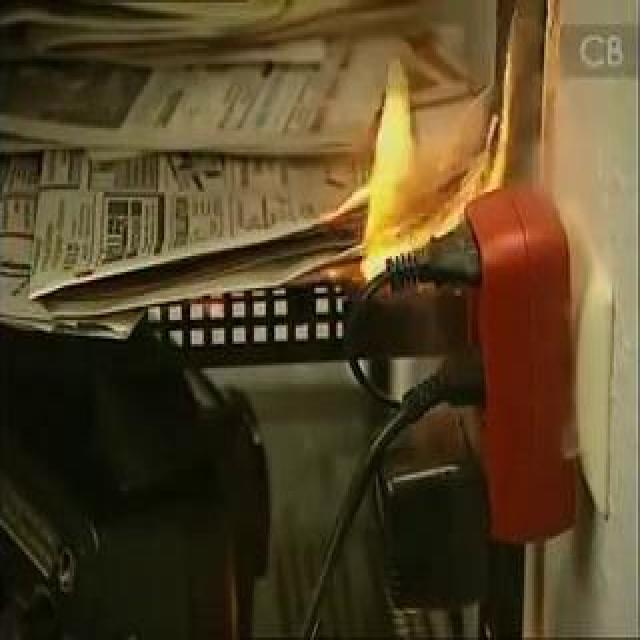Fire: (293, 3, 527, 317)
